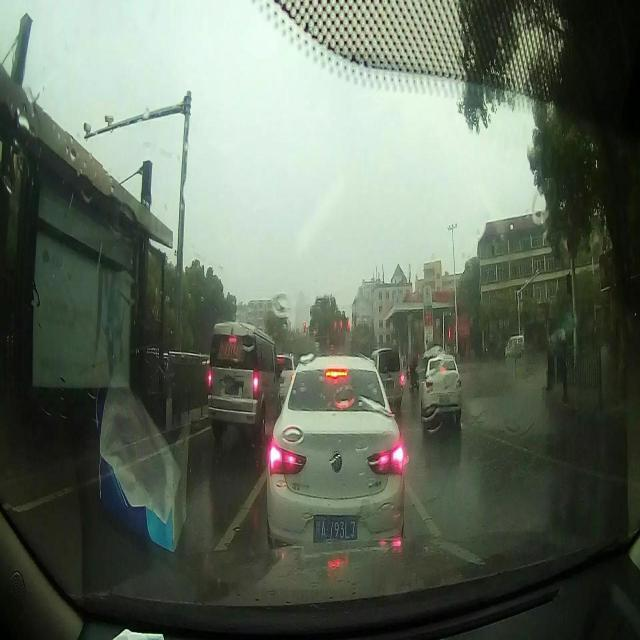car: (263, 356, 405, 568), (204, 320, 284, 426), (422, 356, 464, 422), (368, 344, 402, 408), (503, 334, 526, 358)
